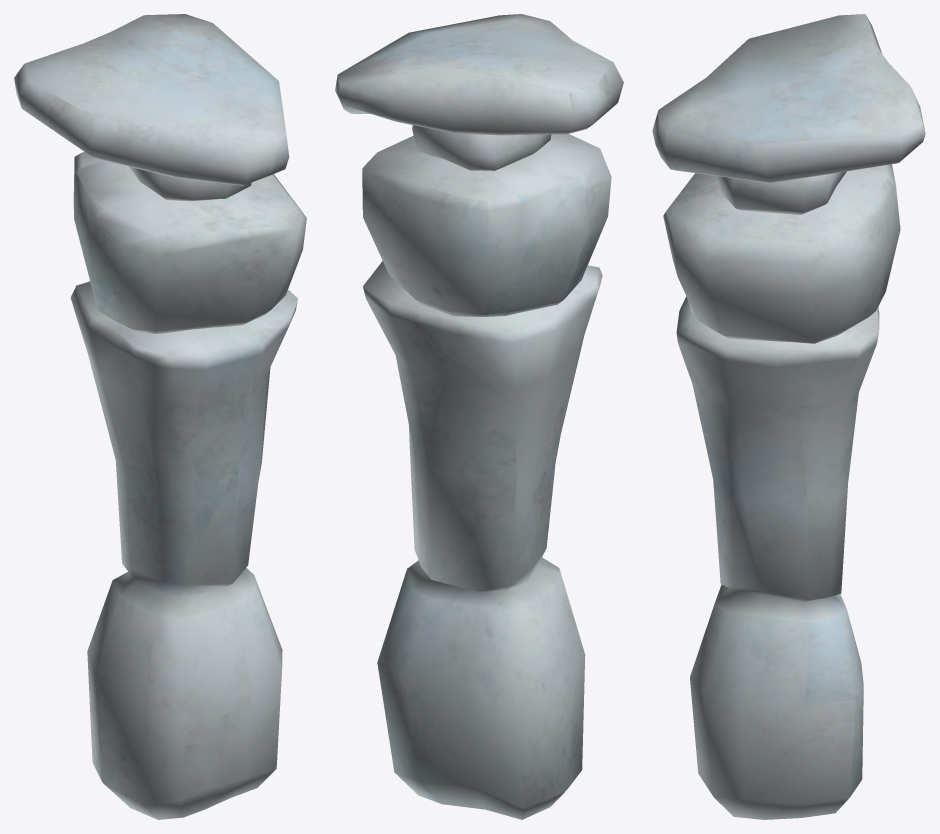
File: P_RockDesert_Hoodoo15.obj
3 renders of one model, left to right at view 1: azimuth 30°, elevation 25°; view 2: azimuth 150°, elevation 25°; view 3: azimuth 270°, elevation 25°, orthographic. The views are drawn at different scales.
Size of the model in its own units: 6.16 by 18.17 by 6.14.
